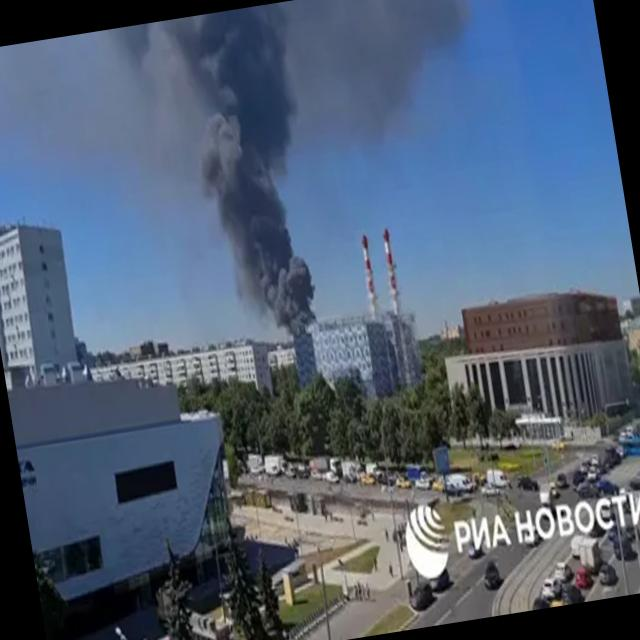Smoke: (99, 0, 370, 358)
